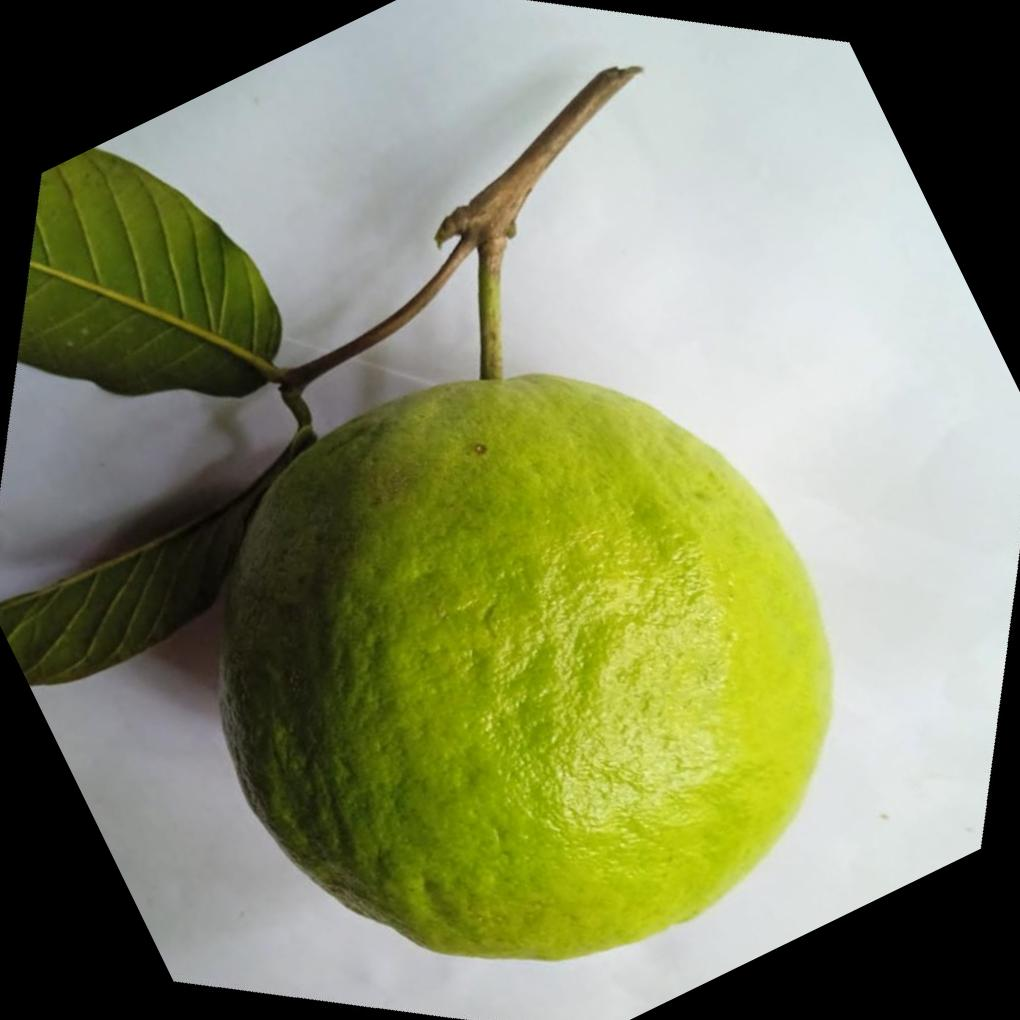FreshGuava: (212, 367, 834, 960)
